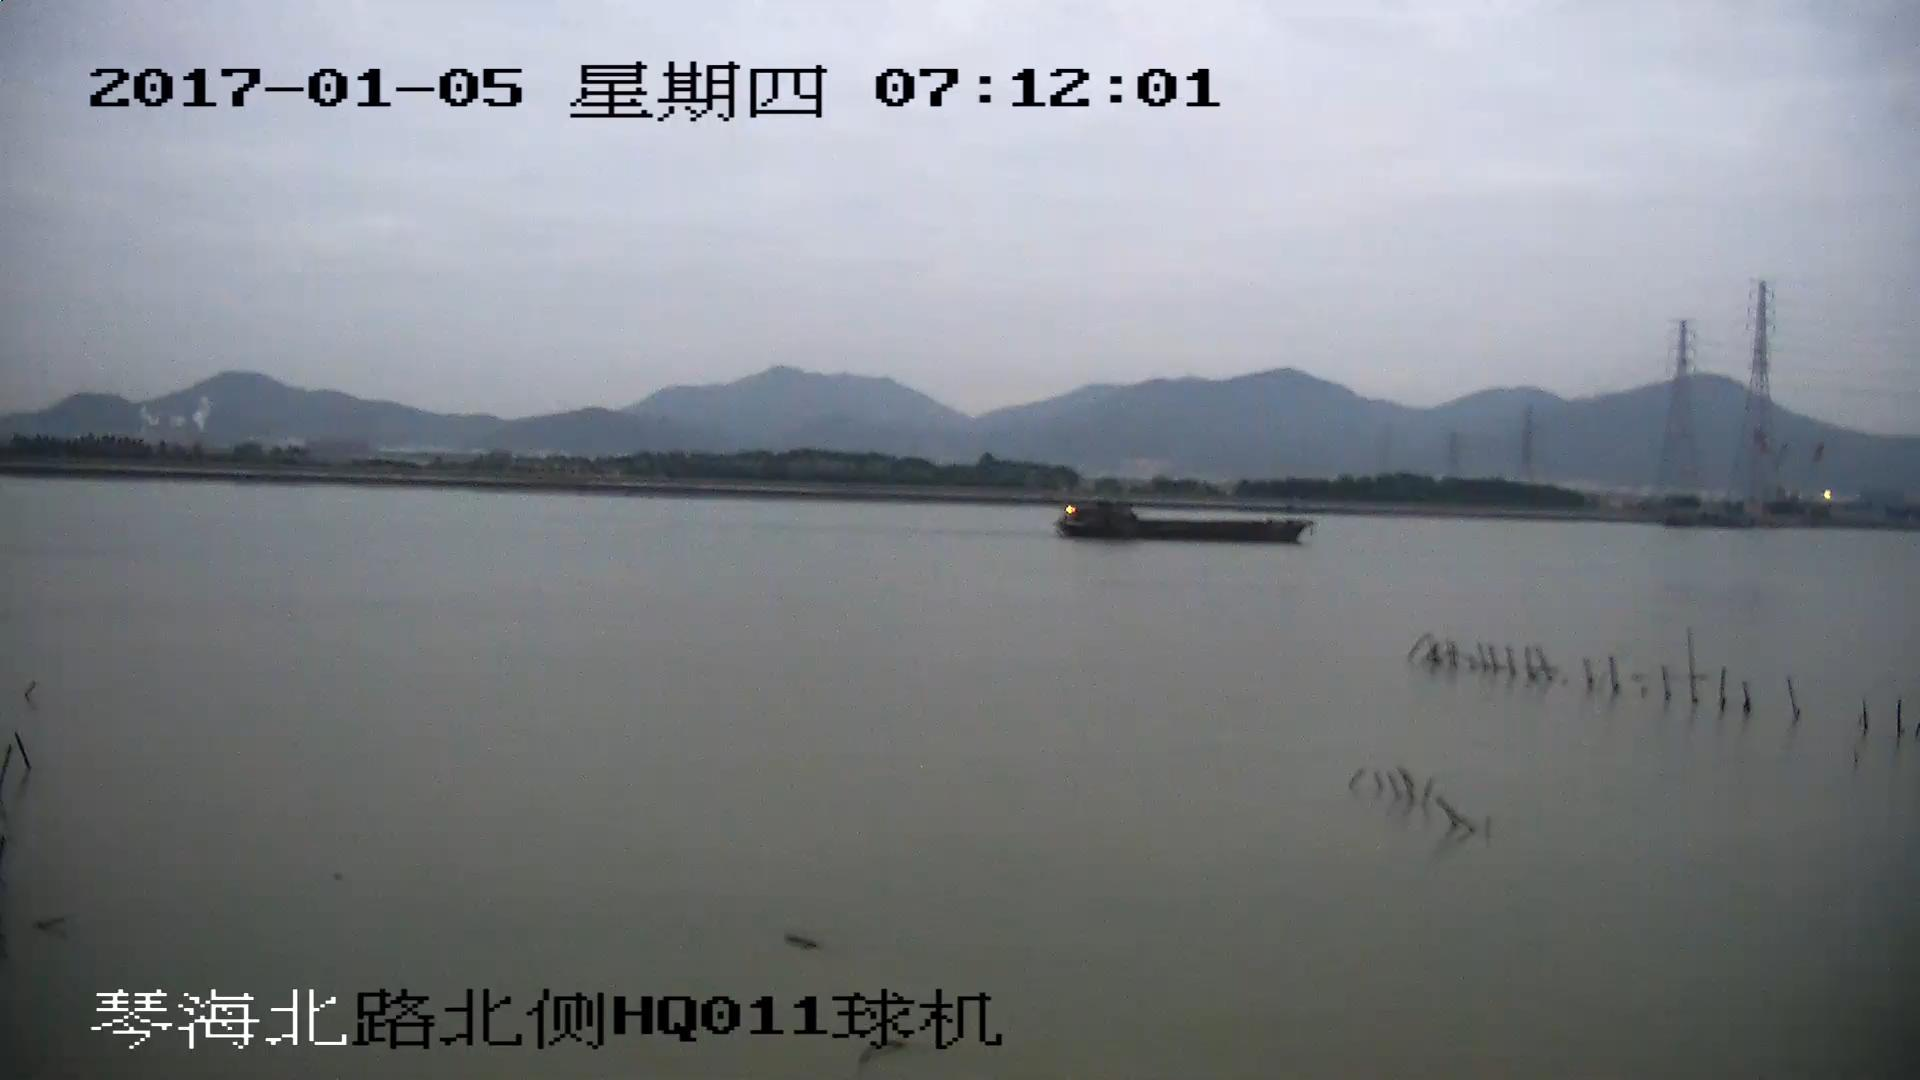Ship: (1055, 500, 1316, 546)
